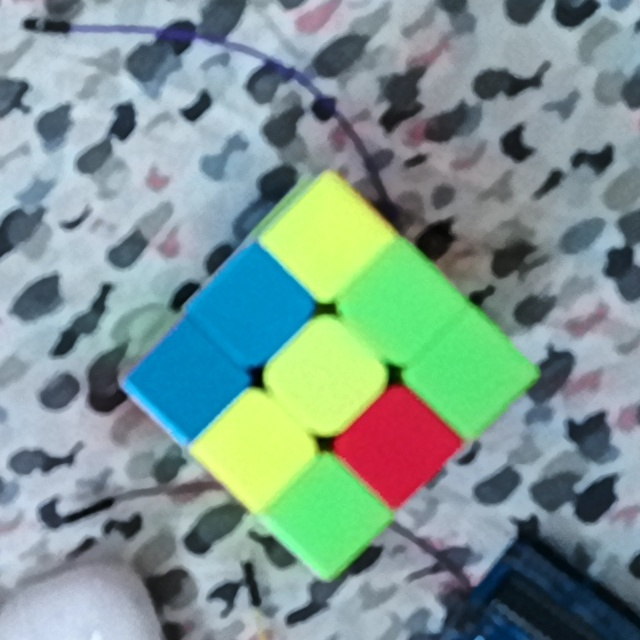tile: (294, 342, 360, 410), (442, 340, 506, 405), (222, 274, 283, 341), (372, 274, 431, 343), (293, 208, 358, 270), (296, 484, 356, 550), (224, 418, 287, 480), (369, 413, 429, 475), (155, 352, 215, 412)
